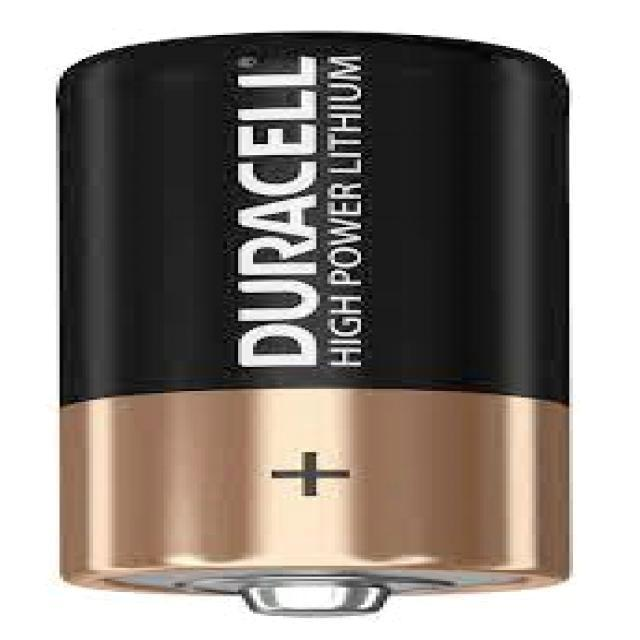battery: (52, 29, 572, 618)
